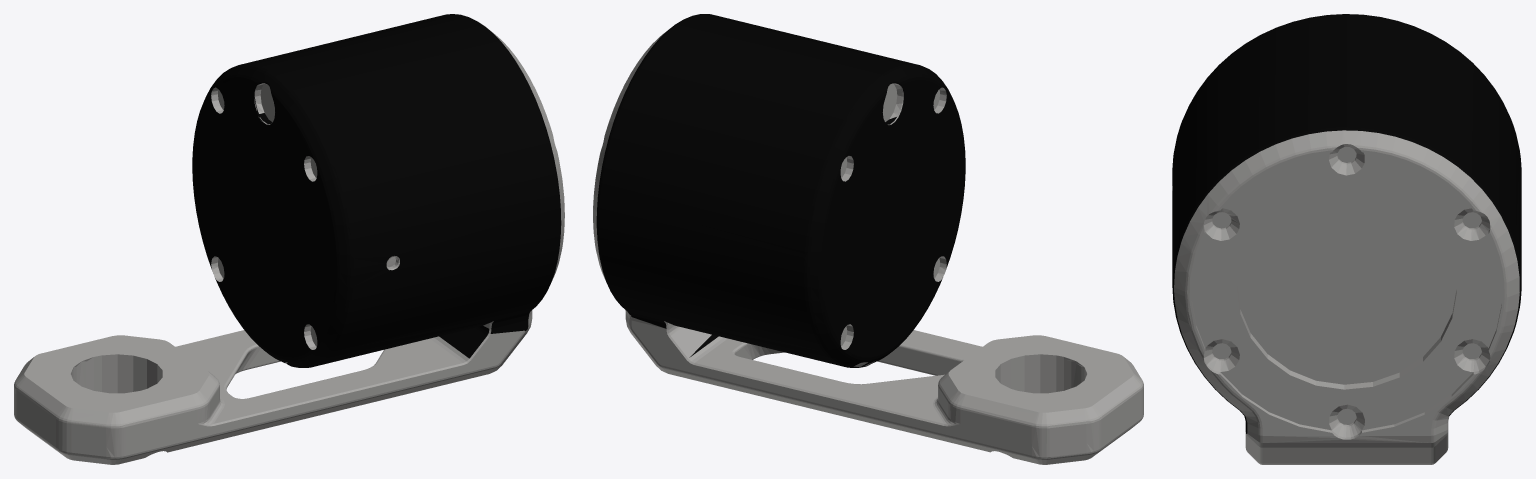
File: right_arm_link5.usd.sapien.glb
3 views of the same model, side by side, from view 1: azimuth 30°, elevation 25°; view 2: azimuth 150°, elevation 25°; view 3: azimuth 270°, elevation 25° (orthographic). The views are drawn at different scales.
Parts seen in each view (by area): view 1: right_arm_link5; view 2: right_arm_link5; view 3: right_arm_link5.
Part boxes in pixels (x1,y1,x2,y2): right_arm_link5: [14, 14, 564, 464]; right_arm_link5: [593, 14, 1143, 464]; right_arm_link5: [1172, 14, 1521, 464].
Bounding box in the file's own units: 0.1025 × 0.0672 × 0.0604.
1 material, 1 textured.
